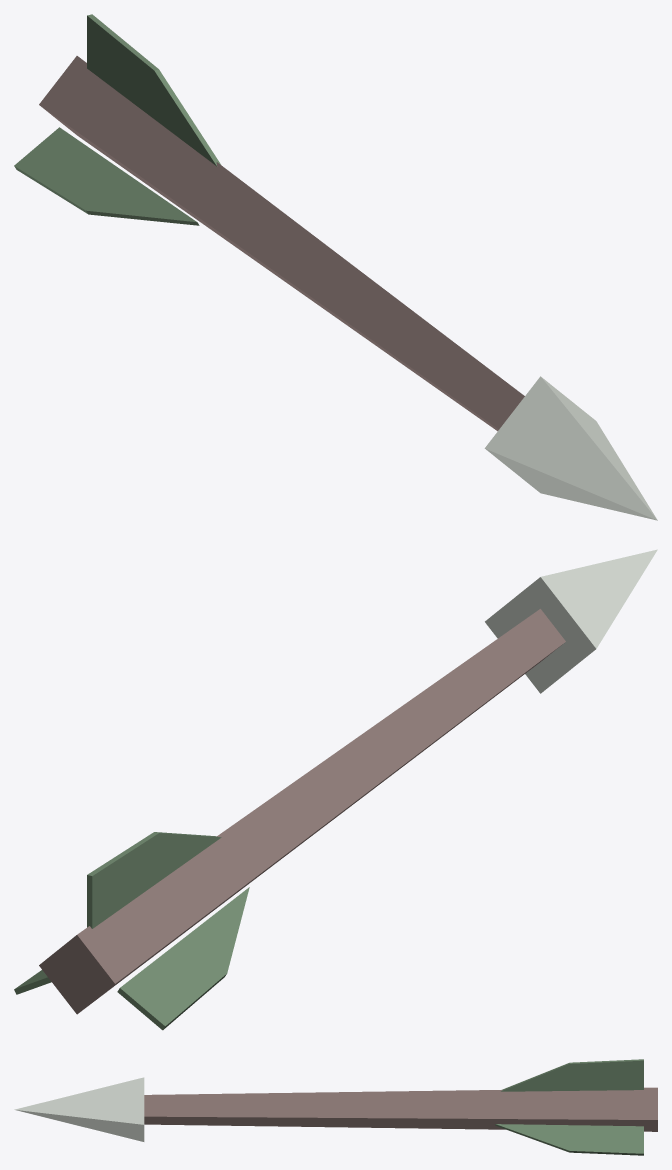
The model's file is arrow.fbx.
3 views of the same model, one above another, from view 1: azimuth 30°, elevation 25°; view 2: azimuth 150°, elevation 25°; view 3: azimuth 270°, elevation 25° (orthographic). The views are drawn at different scales.
Parts seen in each view (by area): view 1: Arrow; view 2: Arrow; view 3: Arrow.
Part boxes in pixels (x1,y1,x2,y2): Arrow: (14, 14, 657, 520); Arrow: (14, 549, 657, 1030); Arrow: (14, 1059, 657, 1155).
Bounding box in the file's own units: 11.2 × 10.5 × 74.48.
